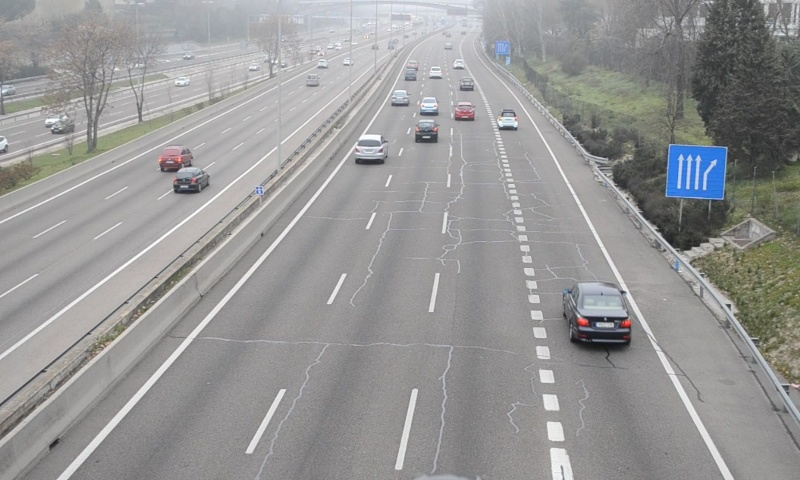car: (563, 282, 634, 346), (354, 133, 388, 163), (415, 119, 438, 142), (496, 109, 519, 130), (453, 101, 476, 122), (419, 96, 439, 116), (389, 89, 410, 106), (459, 76, 474, 92)
